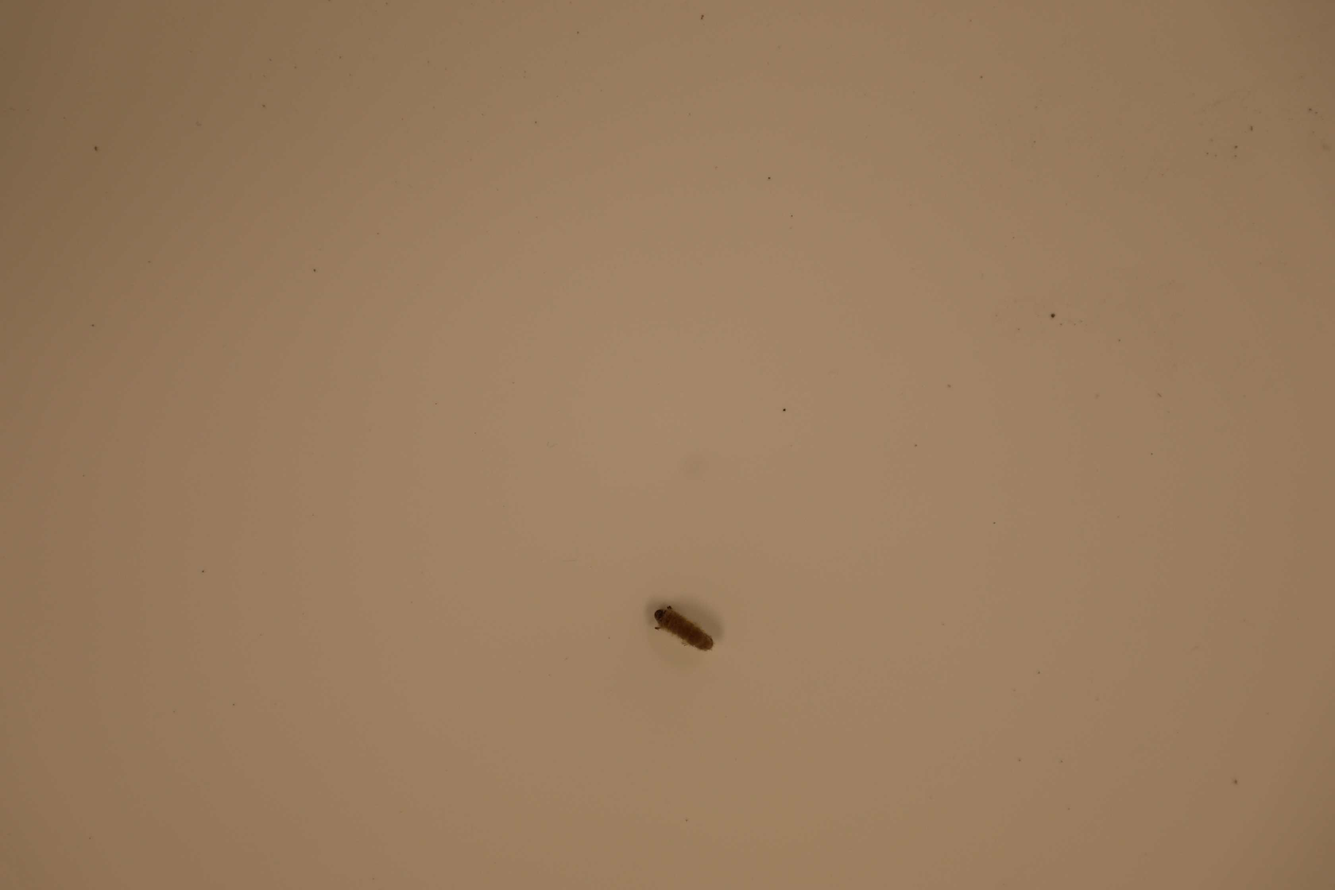Cadisfly: (644, 596, 715, 656)
